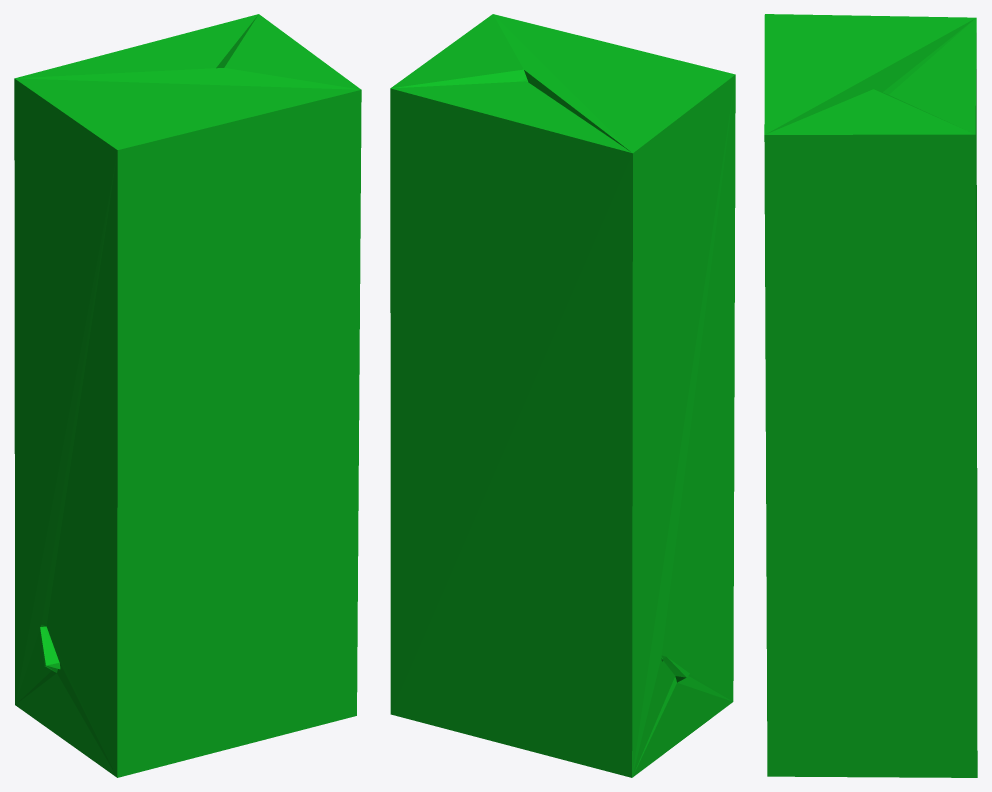
3 renders of one model, left to right at view 1: azimuth 30°, elevation 25°; view 2: azimuth 150°, elevation 25°; view 3: azimuth 270°, elevation 25°, orthographic. The views are drawn at different scales.
Parts seen in each view (by area): view 1: 482_Cube.1957; view 2: 482_Cube.1957; view 3: 482_Cube.1957.
Boxes of the visible parts, left/top/right/bottom form: 482_Cube.1957: left=14, top=14, right=361, bottom=777; 482_Cube.1957: left=390, top=14, right=735, bottom=777; 482_Cube.1957: left=764, top=14, right=977, bottom=777.
Size of the model in its own units: 5.14 by 12.15 by 3.6.
